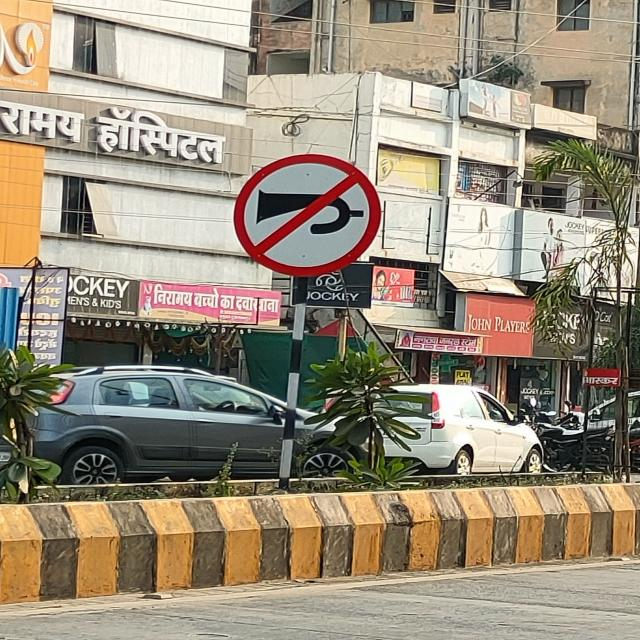HORN_PROHIBITED: (233, 154, 384, 276)
